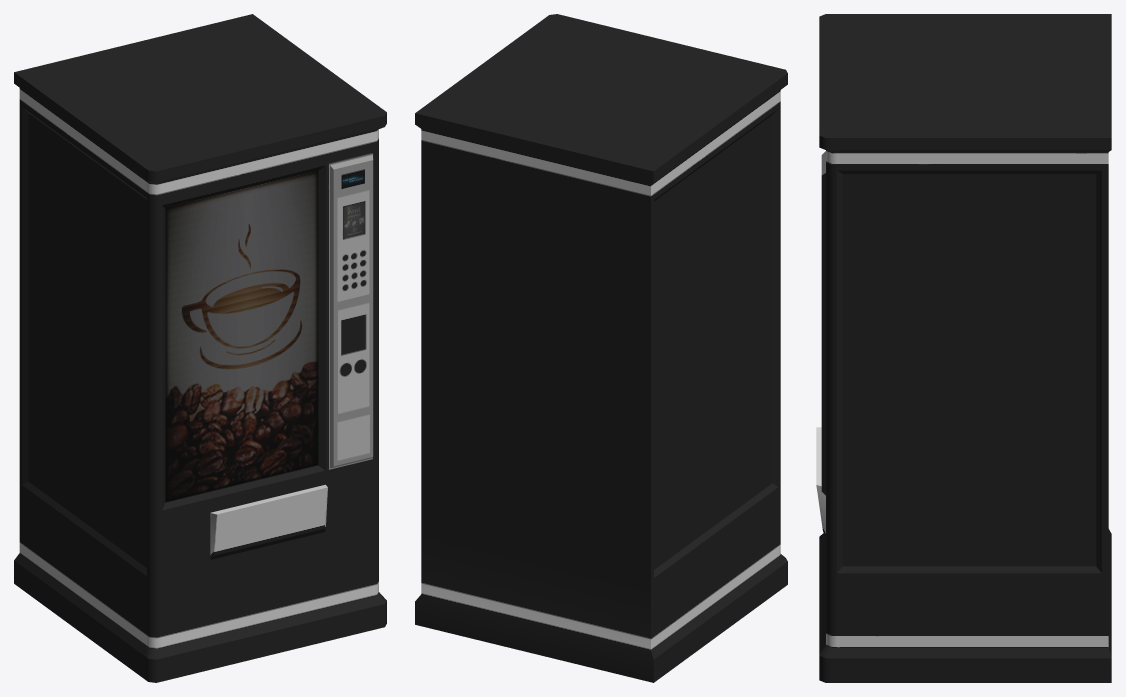
The model's file is vending_machine_a_01.FBX.
3 views of the same model, side by side, from view 1: azimuth 30°, elevation 25°; view 2: azimuth 150°, elevation 25°; view 3: azimuth 270°, elevation 25° (orthographic). The views are drawn at different scales.
Parts seen in each view (by area): view 1: vending_machine_a_01; view 2: vending_machine_a_01; view 3: vending_machine_a_01.
Part boxes in pixels (bbox=[...]): vending_machine_a_01: bbox=[14, 14, 386, 682]; vending_machine_a_01: bbox=[415, 14, 787, 682]; vending_machine_a_01: bbox=[816, 14, 1111, 682].
Bounding box in the file's own units: 1.02 × 2.09 × 1.03.
Materials: 1 (1 with a texture image).
